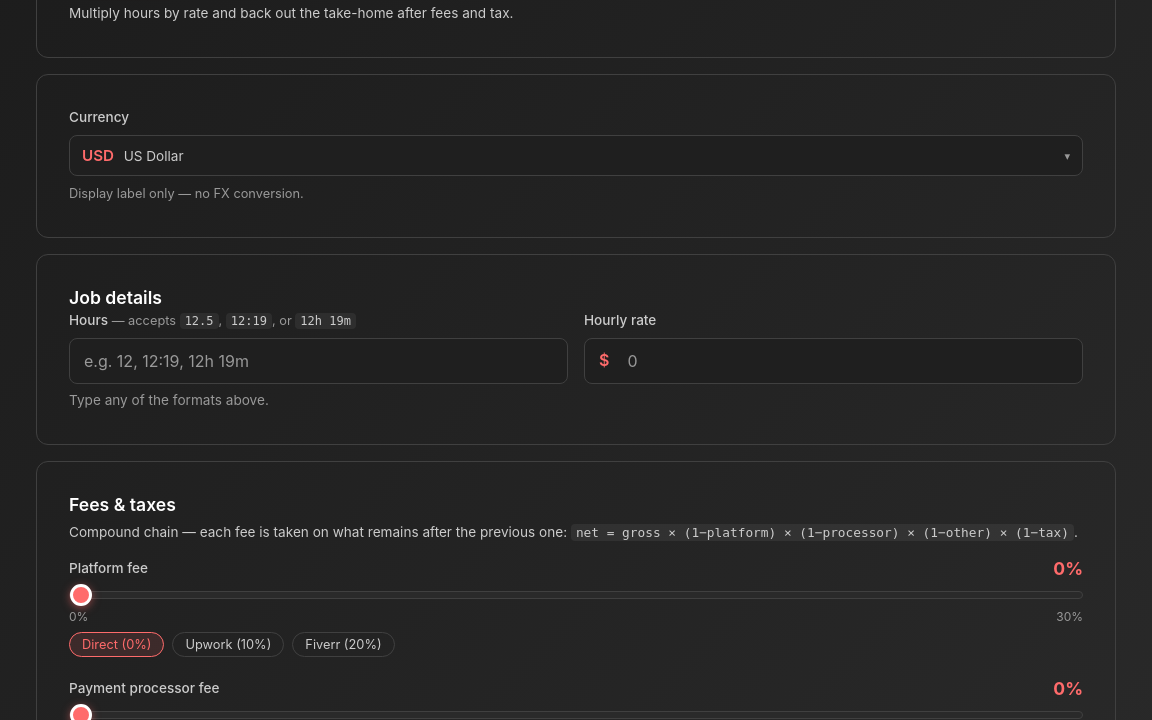
<FreelanceRateCalculator /> — Quote mode › switches currency display from USD to EUR
(page scrolled)
Step 1. Type "10" into the field labelled "Hours — accepts 12.5, 12:19, or 12h 19m" → (318, 361), box [69,338,568,384]
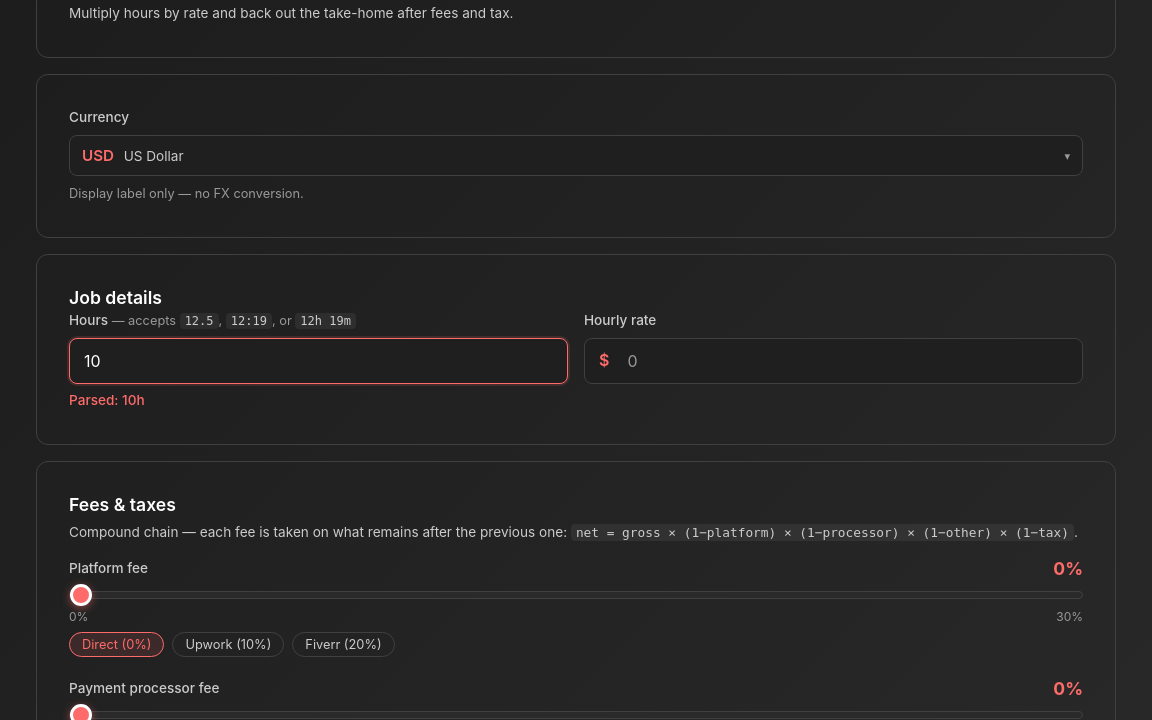
Step 2. Type "100" into the number field labelled "Hourly rate" → (848, 361), box [613,339,1082,383]
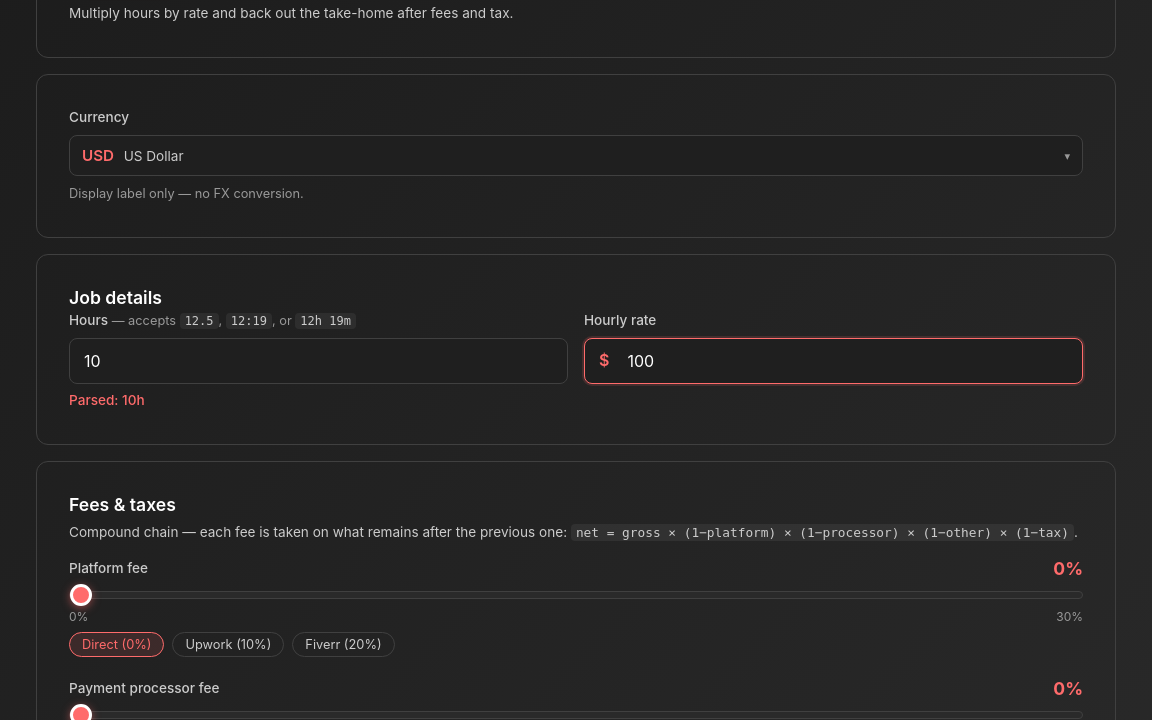
Open the currency popover, click EUR.
Step 3. Click the button "USD US Dollar ▾" → click(98, 156), box [69,135,1083,176]
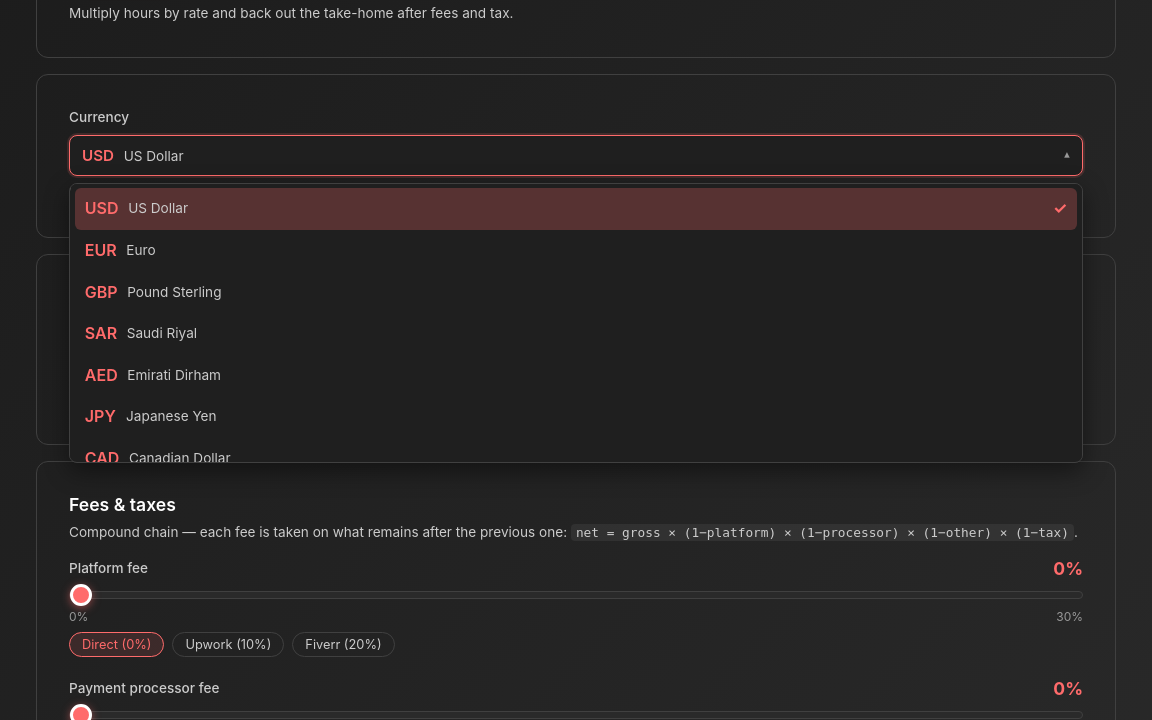
Step 4. Click the option "EUR Euro" → click(101, 250), box [85,240,156,260]
(page scrolled)
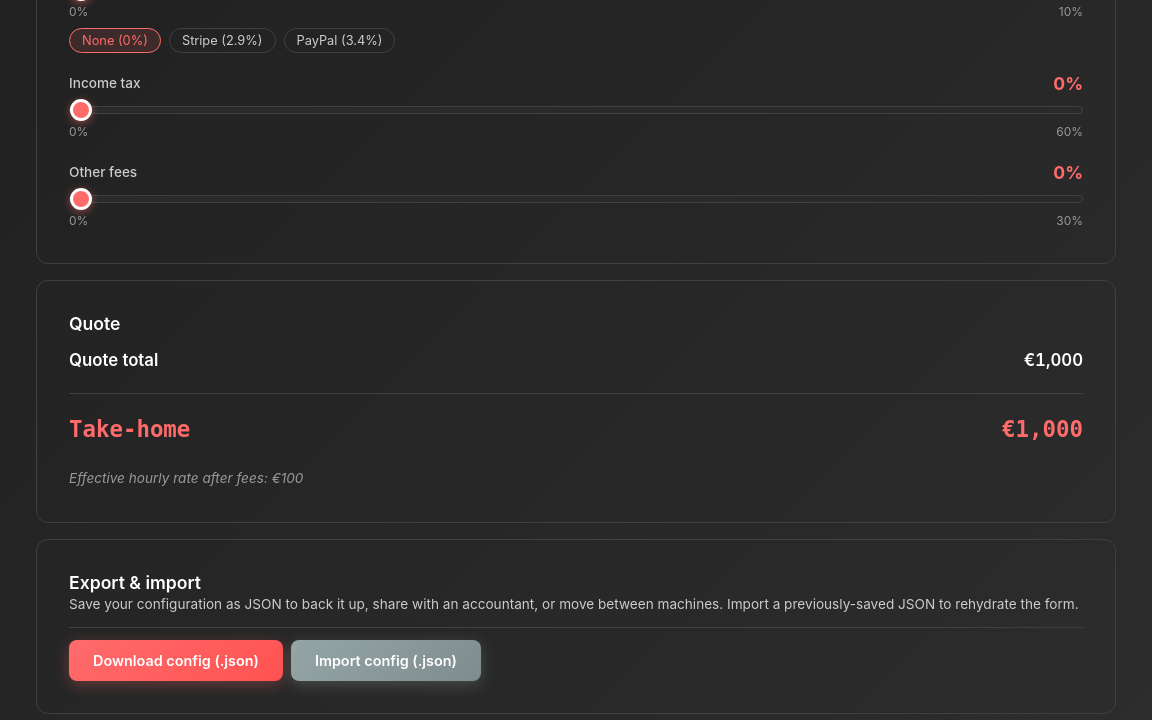
Expected: the text "€1,000" in the row of "Quote total" is shown, [1024,350,1083,370]
